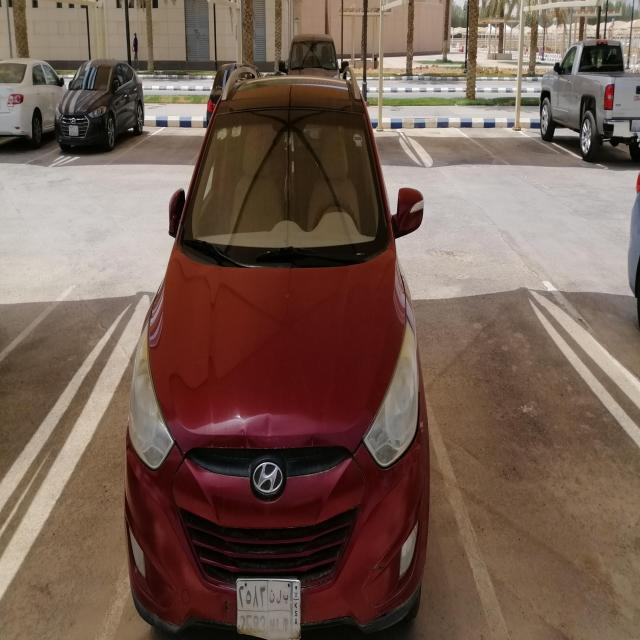license_plate: (237, 578, 300, 640), (630, 119, 640, 132), (68, 125, 78, 136)
